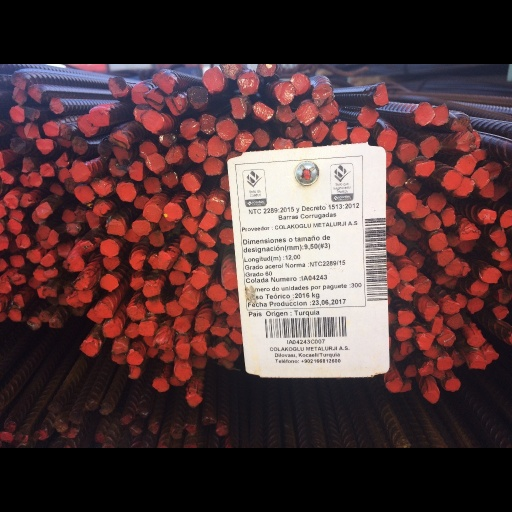dipstick: (165, 90, 190, 116), (413, 101, 436, 127), (140, 110, 164, 134), (237, 71, 260, 96), (108, 128, 133, 150), (273, 81, 295, 106), (152, 71, 175, 94), (296, 102, 319, 125), (311, 84, 334, 107), (77, 114, 99, 138), (203, 70, 225, 93), (396, 141, 419, 163), (187, 85, 207, 110), (107, 76, 129, 98), (144, 87, 165, 110), (207, 135, 228, 158), (419, 135, 440, 158), (88, 106, 110, 127), (105, 216, 127, 237), (318, 100, 339, 122), (376, 129, 397, 151), (454, 153, 476, 174), (290, 72, 310, 95), (431, 103, 449, 128), (70, 161, 91, 182), (442, 169, 463, 190), (454, 176, 475, 197), (253, 101, 275, 121), (456, 130, 476, 152), (187, 140, 206, 163), (155, 326, 173, 350), (74, 185, 95, 205), (116, 181, 136, 202), (78, 338, 99, 358), (216, 119, 237, 139), (397, 193, 417, 214), (427, 191, 447, 212), (180, 118, 199, 140), (146, 152, 165, 174), (358, 105, 377, 127), (9, 137, 32, 155), (222, 267, 239, 291), (372, 82, 389, 106), (111, 145, 131, 165), (99, 273, 119, 293), (142, 203, 162, 223), (111, 340, 127, 365), (234, 132, 254, 152), (410, 199, 430, 219), (428, 232, 448, 252), (102, 320, 123, 339), (131, 83, 149, 105), (91, 178, 113, 196), (199, 113, 217, 135), (472, 167, 489, 190), (190, 270, 209, 290), (182, 173, 201, 193), (203, 157, 223, 176), (125, 304, 146, 322), (198, 249, 219, 267), (311, 122, 329, 143), (230, 97, 247, 119), (414, 160, 436, 177), (133, 104, 152, 123), (164, 202, 183, 221), (199, 212, 218, 231), (284, 121, 303, 140), (450, 113, 469, 132), (138, 141, 158, 159), (100, 239, 120, 257), (220, 296, 238, 316), (179, 292, 199, 310), (206, 284, 227, 301), (186, 195, 203, 216), (331, 120, 348, 141), (35, 138, 54, 156), (157, 344, 175, 363), (197, 229, 216, 247), (350, 127, 369, 145), (388, 169, 407, 187), (424, 212, 442, 231), (414, 276, 432, 295), (417, 332, 435, 351), (489, 228, 506, 248), (145, 298, 166, 314), (481, 268, 502, 284), (98, 138, 113, 160), (35, 201, 53, 219), (444, 258, 462, 276), (10, 71, 27, 90), (166, 298, 183, 317), (173, 256, 192, 273), (205, 197, 224, 214), (27, 84, 43, 104), (129, 251, 145, 271), (174, 365, 194, 381), (166, 144, 182, 164), (403, 225, 423, 241), (126, 349, 144, 366), (143, 177, 161, 194), (400, 265, 418, 282), (398, 284, 415, 302), (437, 248, 455, 265), (484, 162, 502, 179), (471, 278, 488, 296), (466, 297, 484, 314), (11, 86, 27, 105), (85, 210, 101, 229), (132, 220, 151, 236), (94, 302, 113, 318), (189, 353, 208, 369), (180, 236, 196, 255), (276, 104, 292, 123), (389, 217, 405, 236), (173, 317, 190, 334), (161, 171, 178, 188), (23, 123, 41, 139), (72, 137, 88, 155), (66, 291, 84, 307), (86, 308, 104, 324), (174, 342, 190, 360), (212, 342, 230, 358), (478, 208, 496, 224), (397, 310, 415, 326), (271, 137, 293, 150), (71, 275, 90, 290), (254, 128, 269, 147), (460, 226, 479, 241), (442, 207, 455, 228), (48, 98, 65, 114), (9, 105, 25, 122), (5, 218, 21, 235), (148, 230, 164, 247), (137, 321, 154, 337), (159, 133, 177, 148), (102, 256, 120, 271), (123, 228, 141, 243), (185, 393, 203, 408), (143, 282, 161, 297), (182, 216, 197, 234), (219, 227, 234, 245), (480, 180, 495, 198), (424, 303, 439, 321), (129, 161, 143, 180), (159, 216, 175, 232), (190, 340, 206, 356), (194, 317, 210, 333), (169, 270, 185, 286), (152, 378, 169, 393), (385, 236, 400, 253), (442, 299, 459, 314), (470, 356, 487, 371), (93, 203, 111, 217), (67, 258, 85, 272), (159, 249, 171, 270), (491, 247, 509, 261), (437, 332, 455, 346), (446, 315, 464, 329), (385, 379, 403, 393), (395, 327, 413, 341), (24, 106, 40, 121), (43, 121, 59, 136), (27, 172, 43, 187), (3, 193, 19, 208), (15, 234, 31, 249), (77, 289, 93, 304), (124, 323, 140, 338), (226, 312, 242, 327), (59, 123, 73, 140), (492, 306, 509, 320), (437, 357, 454, 371), (467, 335, 485, 348), (210, 325, 229, 337), (55, 152, 70, 167), (20, 193, 35, 208), (26, 249, 41, 264), (8, 308, 23, 323), (445, 377, 460, 392), (21, 156, 35, 172), (39, 163, 55, 177), (66, 222, 82, 236), (74, 208, 88, 224), (133, 195, 149, 209), (419, 360, 433, 376), (229, 328, 242, 345), (0, 170, 14, 185), (64, 178, 78, 193), (33, 268, 48, 282), (127, 365, 141, 380), (9, 254, 25, 267), (48, 315, 64, 328), (148, 252, 160, 269), (498, 287, 510, 304), (19, 174, 33, 188), (57, 244, 71, 258), (40, 253, 54, 267), (31, 210, 46, 223), (37, 225, 50, 240), (27, 316, 40, 331), (224, 348, 239, 361), (8, 209, 24, 221), (11, 273, 27, 285), (431, 318, 442, 335), (422, 392, 439, 403), (50, 183, 64, 196), (58, 168, 71, 182), (130, 277, 144, 290), (47, 230, 59, 245), (42, 286, 58, 297), (168, 375, 185, 385), (62, 209, 75, 222), (28, 276, 41, 289), (404, 364, 417, 377), (80, 240, 94, 252), (13, 294, 25, 308), (64, 285, 76, 297), (146, 346, 158, 358), (143, 335, 155, 347), (44, 268, 58, 278), (57, 294, 69, 305), (39, 309, 50, 321), (37, 287, 45, 299)
